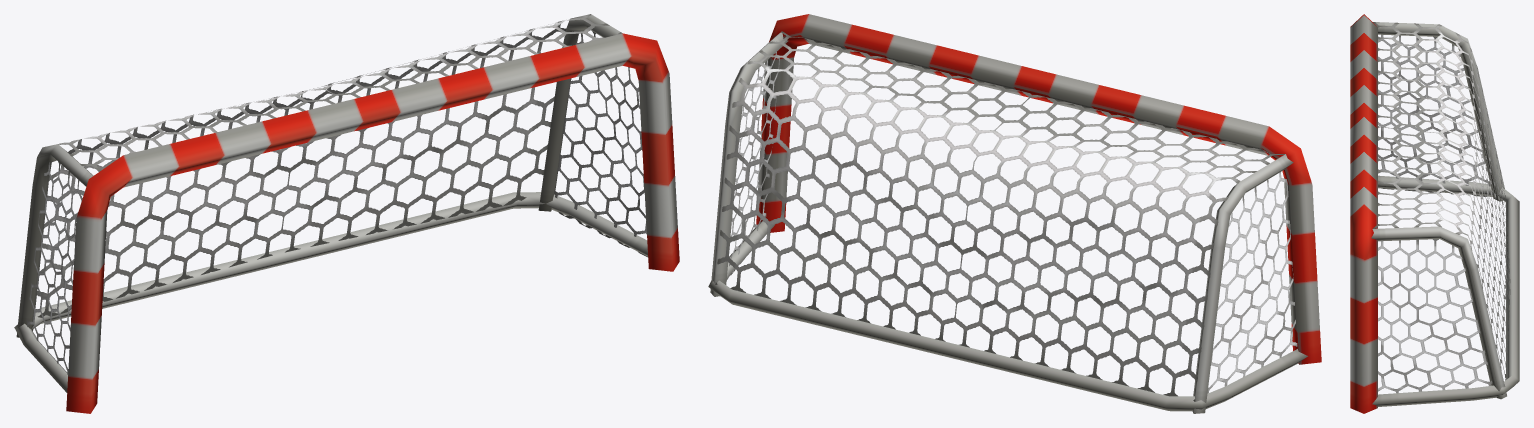
The model's file is Block_QiuMen@standard.FBX.
The picture shows the model from 3 angles, left to right: view 1: azimuth 30°, elevation 25°; view 2: azimuth 150°, elevation 25°; view 3: azimuth 270°, elevation 25°; orthographic projection. The views are drawn at different scales.
Visible parts, largest first — view 1: Block_QiuMen; view 2: Block_QiuMen; view 3: Block_QiuMen.
Boxes of the visible parts, bbox=[...] form: Block_QiuMen: bbox=[14, 14, 679, 413]; Block_QiuMen: bbox=[708, 14, 1321, 413]; Block_QiuMen: bbox=[1350, 14, 1519, 413].
Size of the model in its own units: 793 by 299 by 244.
